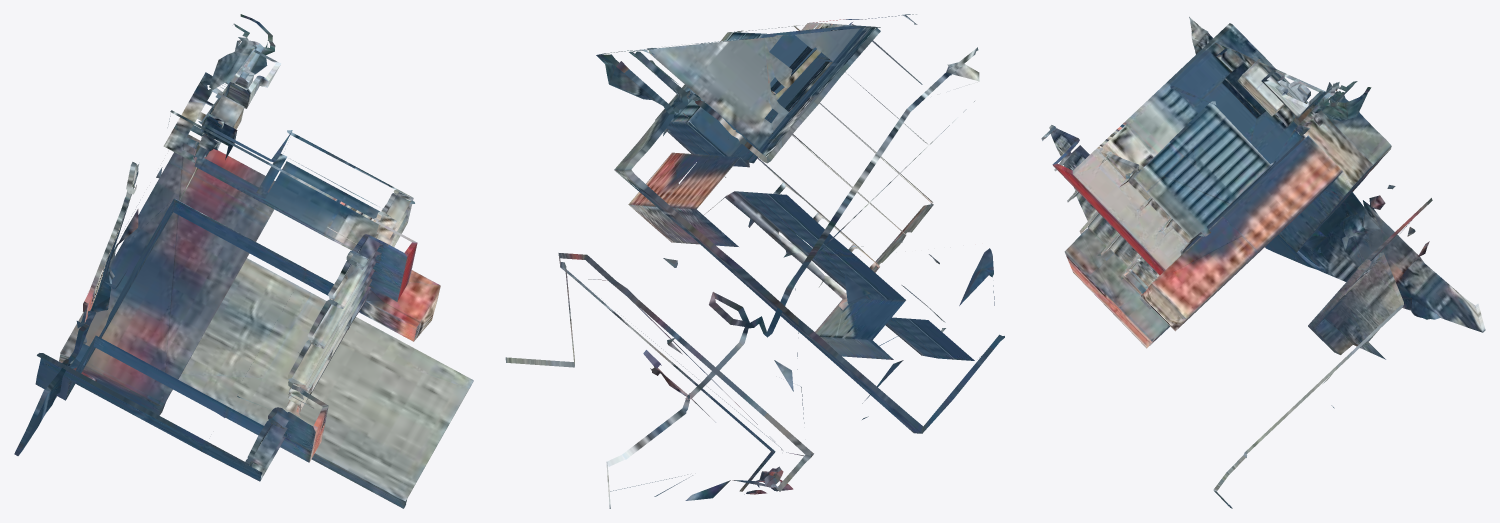
The model's file is masp_tile_7.glb.
The picture shows the model from 3 angles, left to right: view 1: azimuth 30°, elevation 25°; view 2: azimuth 150°, elevation 25°; view 3: azimuth 270°, elevation 25°; orthographic projection. The views are drawn at different scales.
Bounding box in the file's own units: 50.95 × 49.47 × 51.4.
Materials: 2 (2 with a texture image).
